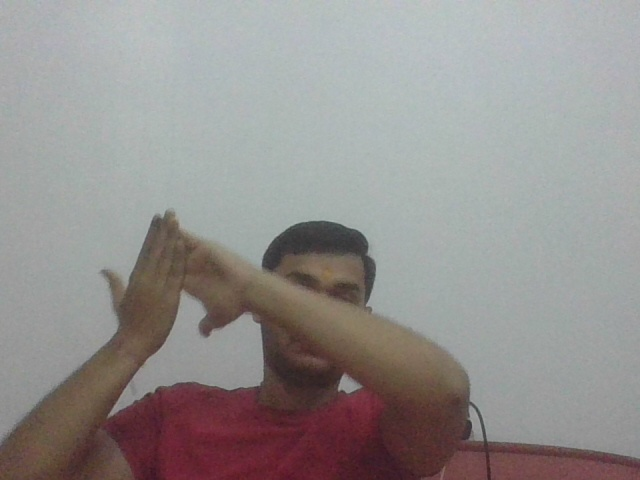H: (98, 208, 250, 344)
